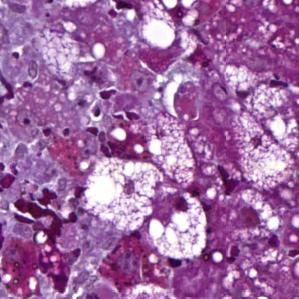ballooning: (145, 188, 209, 263)
